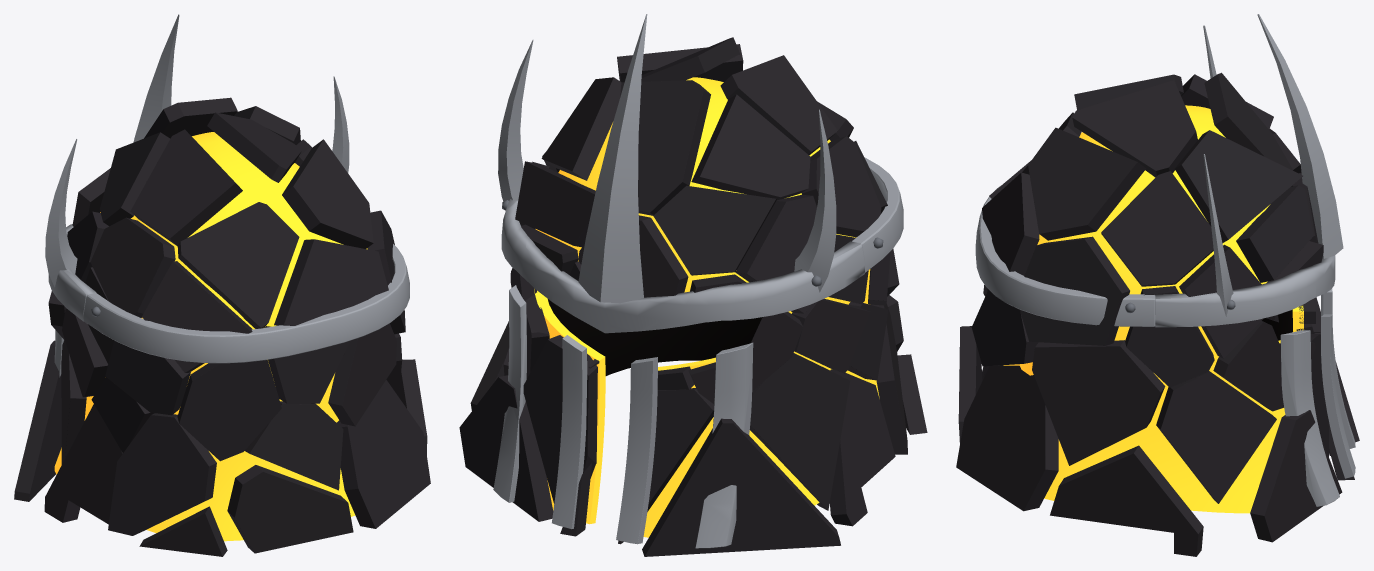
The model's file is CasqueCharbonFer.fbx.
3 renders of one model, left to right at view 1: azimuth 30°, elevation 25°; view 2: azimuth 150°, elevation 25°; view 3: azimuth 270°, elevation 25°, orthographic. The views are drawn at different scales.
Visible parts, largest first — view 1: Roche, FerClair, Fissures; view 2: Roche, FerClair, Fissures, Doublure; view 3: Roche, FerClair, Fissures.
Part boxes in pixels (box(x1,y1,x2,y2)): Roche: box(14, 97, 430, 556); FerClair: box(45, 14, 409, 377); Fissures: box(54, 132, 367, 541); Roche: box(459, 37, 927, 556); FerClair: box(493, 14, 903, 548); Fissures: box(534, 77, 879, 537); Doublure: box(548, 299, 762, 375); Roche: box(956, 72, 1359, 556); FerClair: box(975, 14, 1355, 506); Fissures: box(1003, 105, 1303, 513).
Size of the model in its own units: 228 by 269 by 218.
